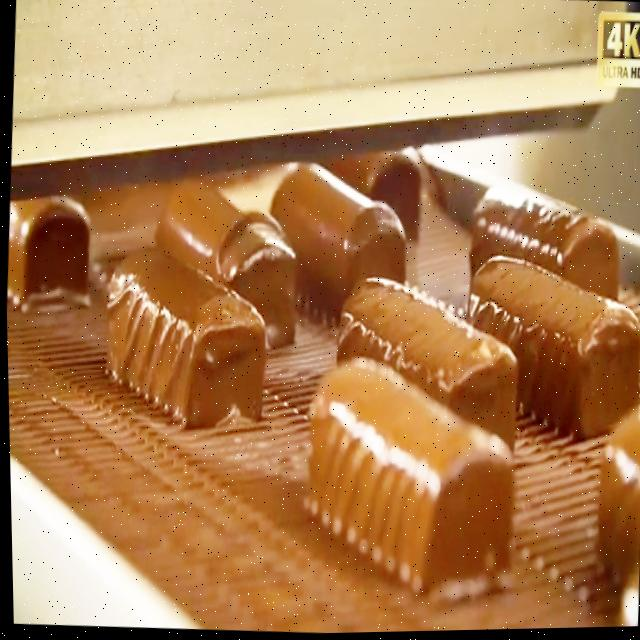Choco: (294, 347, 522, 604), (327, 267, 524, 456), (458, 251, 640, 444), (94, 243, 272, 434), (151, 173, 309, 346), (261, 152, 414, 328), (467, 164, 633, 299), (6, 203, 101, 321), (589, 399, 640, 596), (341, 153, 433, 246)
